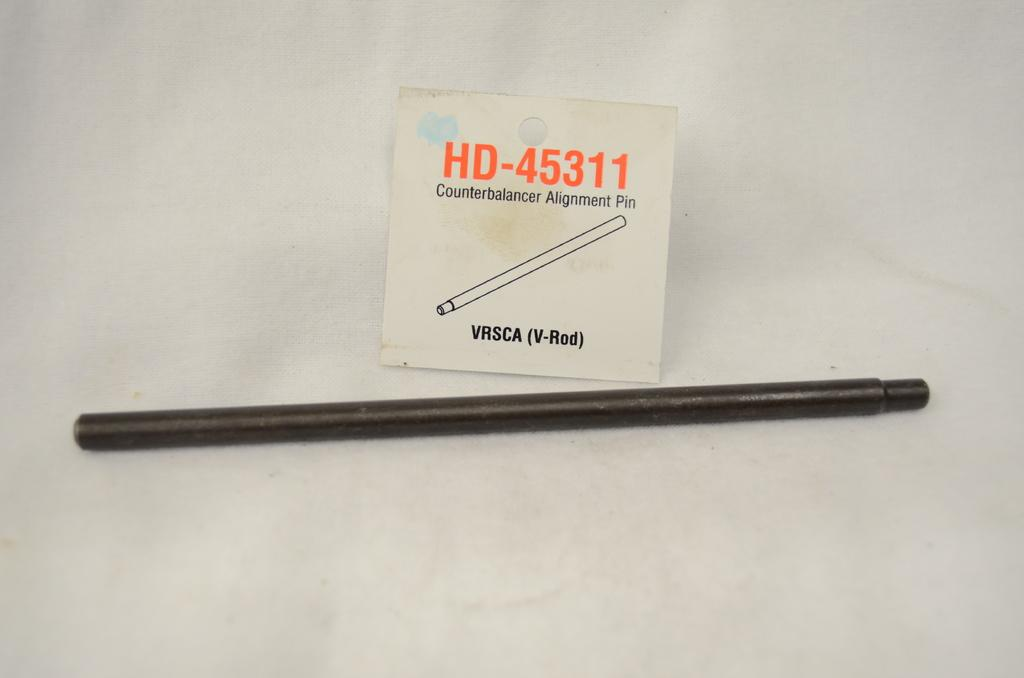pen: (73, 376, 929, 454)
